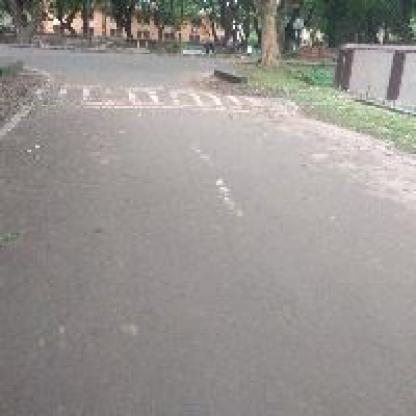Speed Bump: (38, 86, 298, 110)
